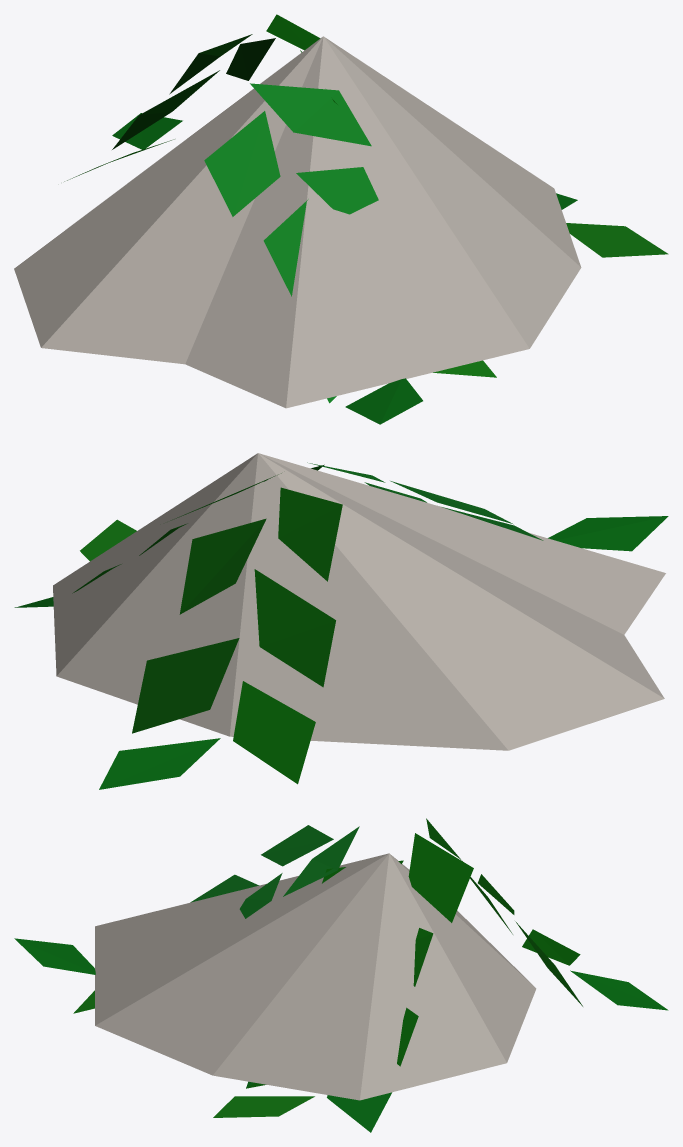
Rendered from rock2.fbx.
The picture shows the model from 3 angles, top to bottom: view 1: azimuth 30°, elevation 25°; view 2: azimuth 150°, elevation 25°; view 3: azimuth 270°, elevation 25°; orthographic projection. The views are drawn at different scales.
Parts seen in each view (by area): view 1: Object Rock 2024-03-15_12-03-32; view 2: Object Rock 2024-03-15_12-03-32; view 3: Object Rock 2024-03-15_12-03-32.
Part boxes in pixels (x1,y1,x2,y2): Object Rock 2024-03-15_12-03-32: (14,14,668,424); Object Rock 2024-03-15_12-03-32: (14,453,668,789); Object Rock 2024-03-15_12-03-32: (14,818,668,1132).
Size of the model in its own units: 15200 by 5500 by 17800.
